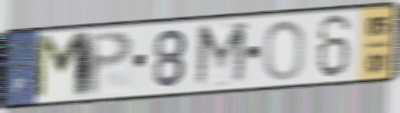6: (315, 12, 354, 82)
8: (152, 28, 188, 90)
M: (32, 30, 94, 104), (191, 19, 250, 91)
O: (262, 18, 307, 83)
P: (85, 29, 137, 98)
